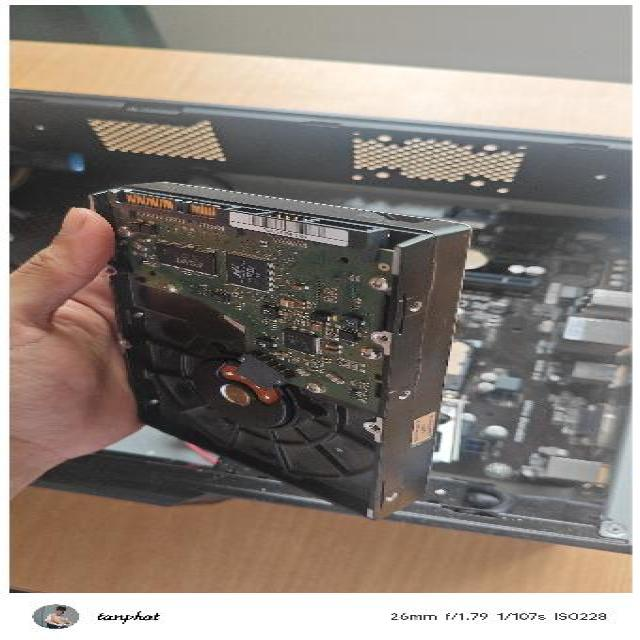DISK: (80, 176, 475, 519)
